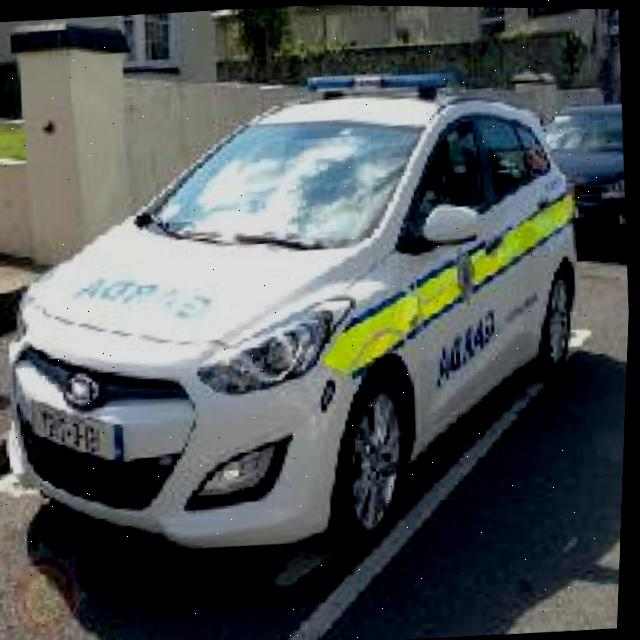emergency: (0, 57, 610, 581)
